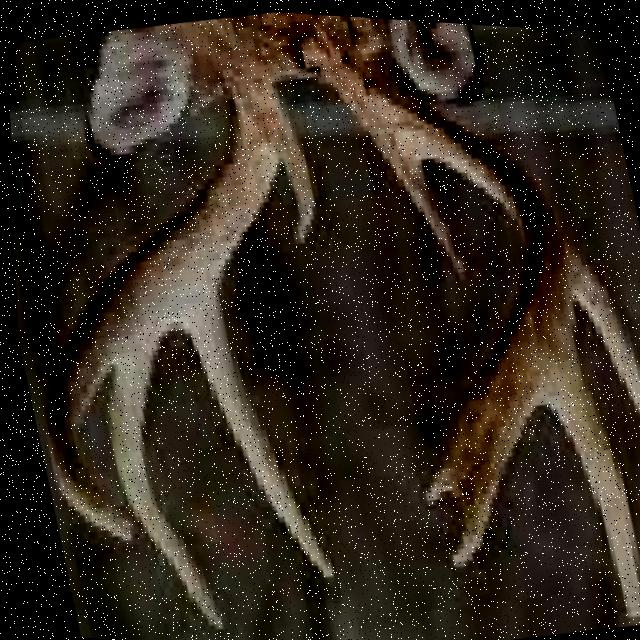E1: (436, 471, 500, 569)
L-F: (296, 12, 561, 507)
L-G1: (380, 156, 468, 278)
L-G2: (558, 217, 640, 427)
L-G3: (531, 304, 640, 616)
R-G1: (275, 113, 313, 246)
R-G2: (172, 275, 329, 578)
R-G3: (100, 338, 218, 633)
